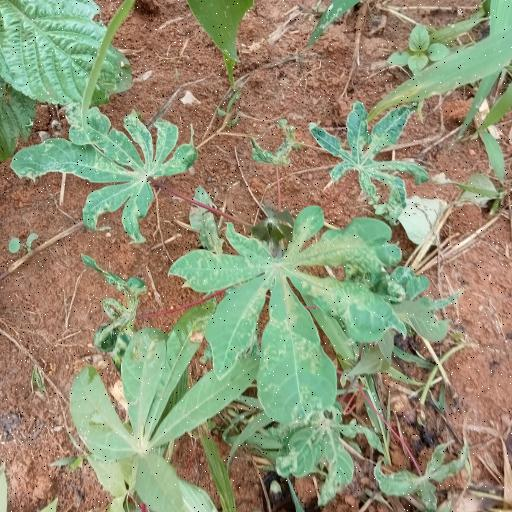Cassava_Mosaic: (178, 222, 400, 418), (14, 107, 191, 239), (308, 98, 428, 213)
